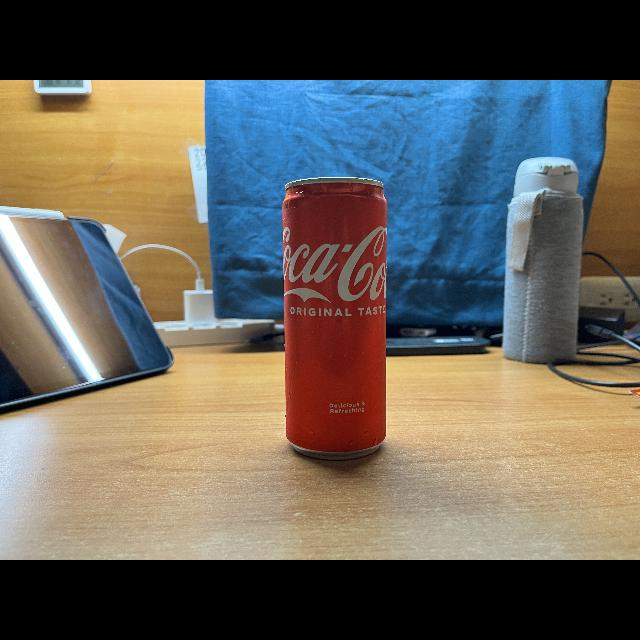can: (282, 173, 394, 455)
